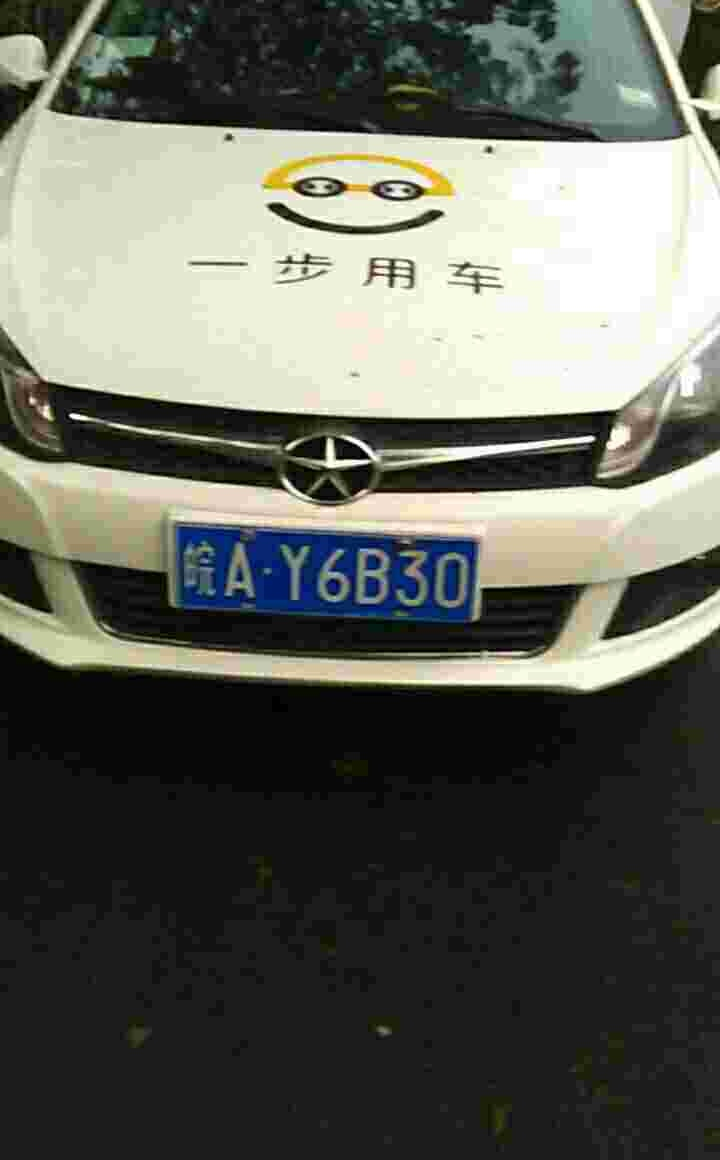license_plate: (169, 526, 482, 631)
